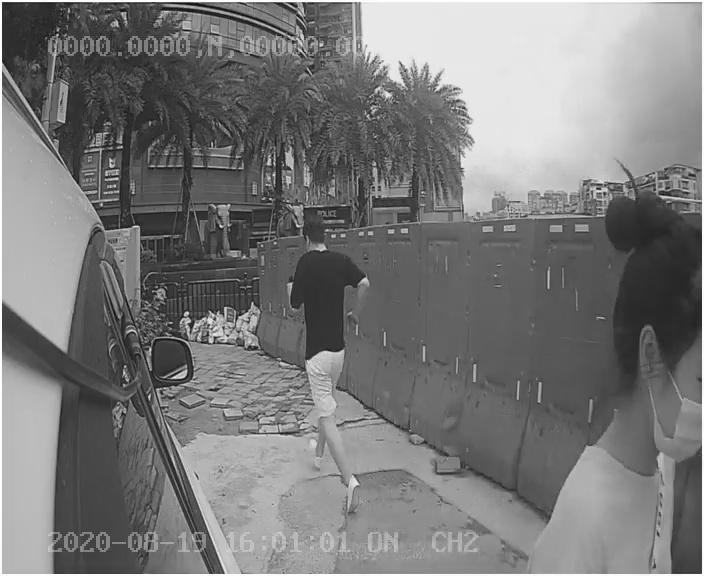person: (274, 212, 398, 511)
